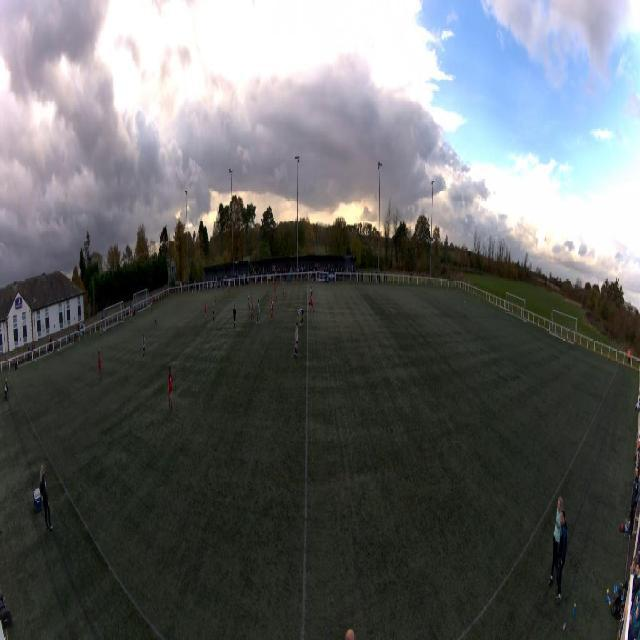ball: (133, 318, 134, 322)
player: (168, 365, 173, 407), (294, 321, 299, 357), (269, 297, 275, 322), (256, 299, 261, 325), (297, 307, 304, 325), (98, 350, 102, 380), (142, 334, 146, 361), (310, 293, 315, 314), (233, 304, 237, 329), (308, 285, 312, 307), (212, 299, 215, 324), (251, 295, 254, 319), (204, 301, 207, 322), (248, 293, 251, 311), (274, 282, 277, 299), (464, 298, 466, 317), (155, 308, 157, 325), (100, 322, 102, 339), (131, 308, 133, 323), (283, 281, 285, 295), (228, 284, 230, 293), (215, 288, 216, 303), (151, 299, 152, 311)
